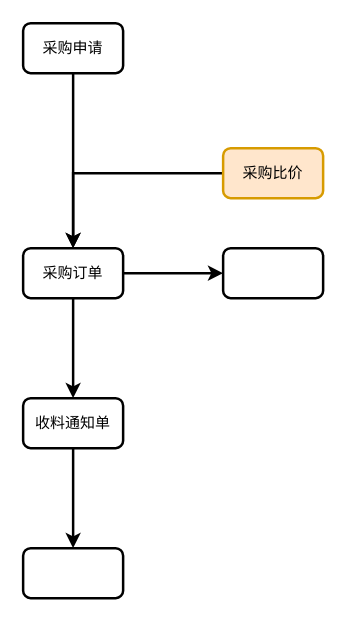
Some shapes in this 345 by 620 pixel diagram are drawn without their labels. Each missing label, with the centre of its shape:
"付款申请单" goes at (272,272).
"采购入库" goes at (72,572).
